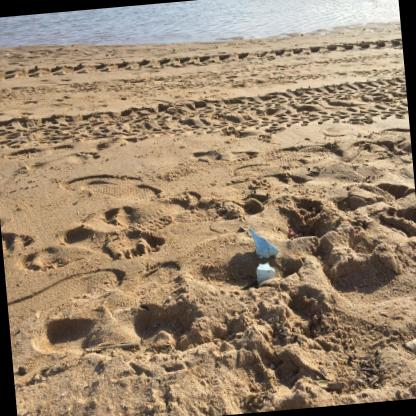Waste: (248, 228, 279, 259), (257, 262, 275, 285), (289, 227, 303, 238)
